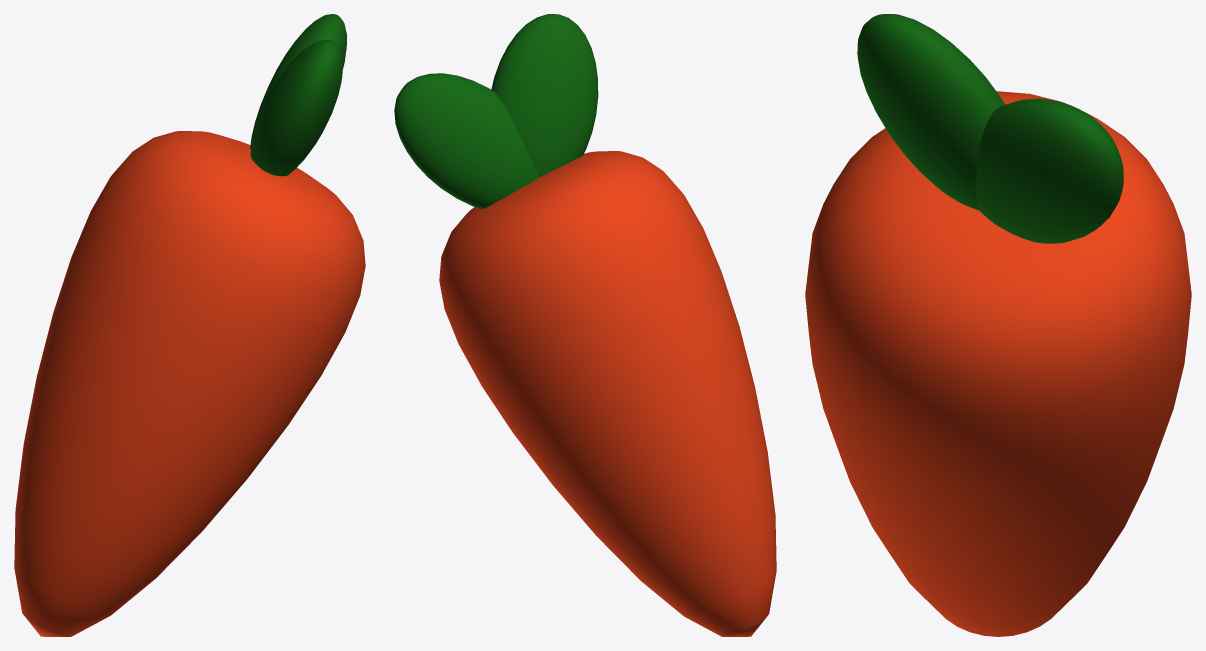
The model's file is carrot.glb.
3 views of the same model, side by side, from view 1: azimuth 30°, elevation 25°; view 2: azimuth 150°, elevation 25°; view 3: azimuth 270°, elevation 25° (orthographic). The views are drawn at different scales.
Visible parts, largest first — view 1: carrots; view 2: carrots; view 3: carrots.
Boxes of the visible parts, bbox=[...] form: carrots: bbox=[14, 14, 365, 636]; carrots: bbox=[394, 14, 776, 636]; carrots: bbox=[805, 14, 1191, 636].
Bounding box in the file's own units: 1.65 × 2.51 × 1.15.
